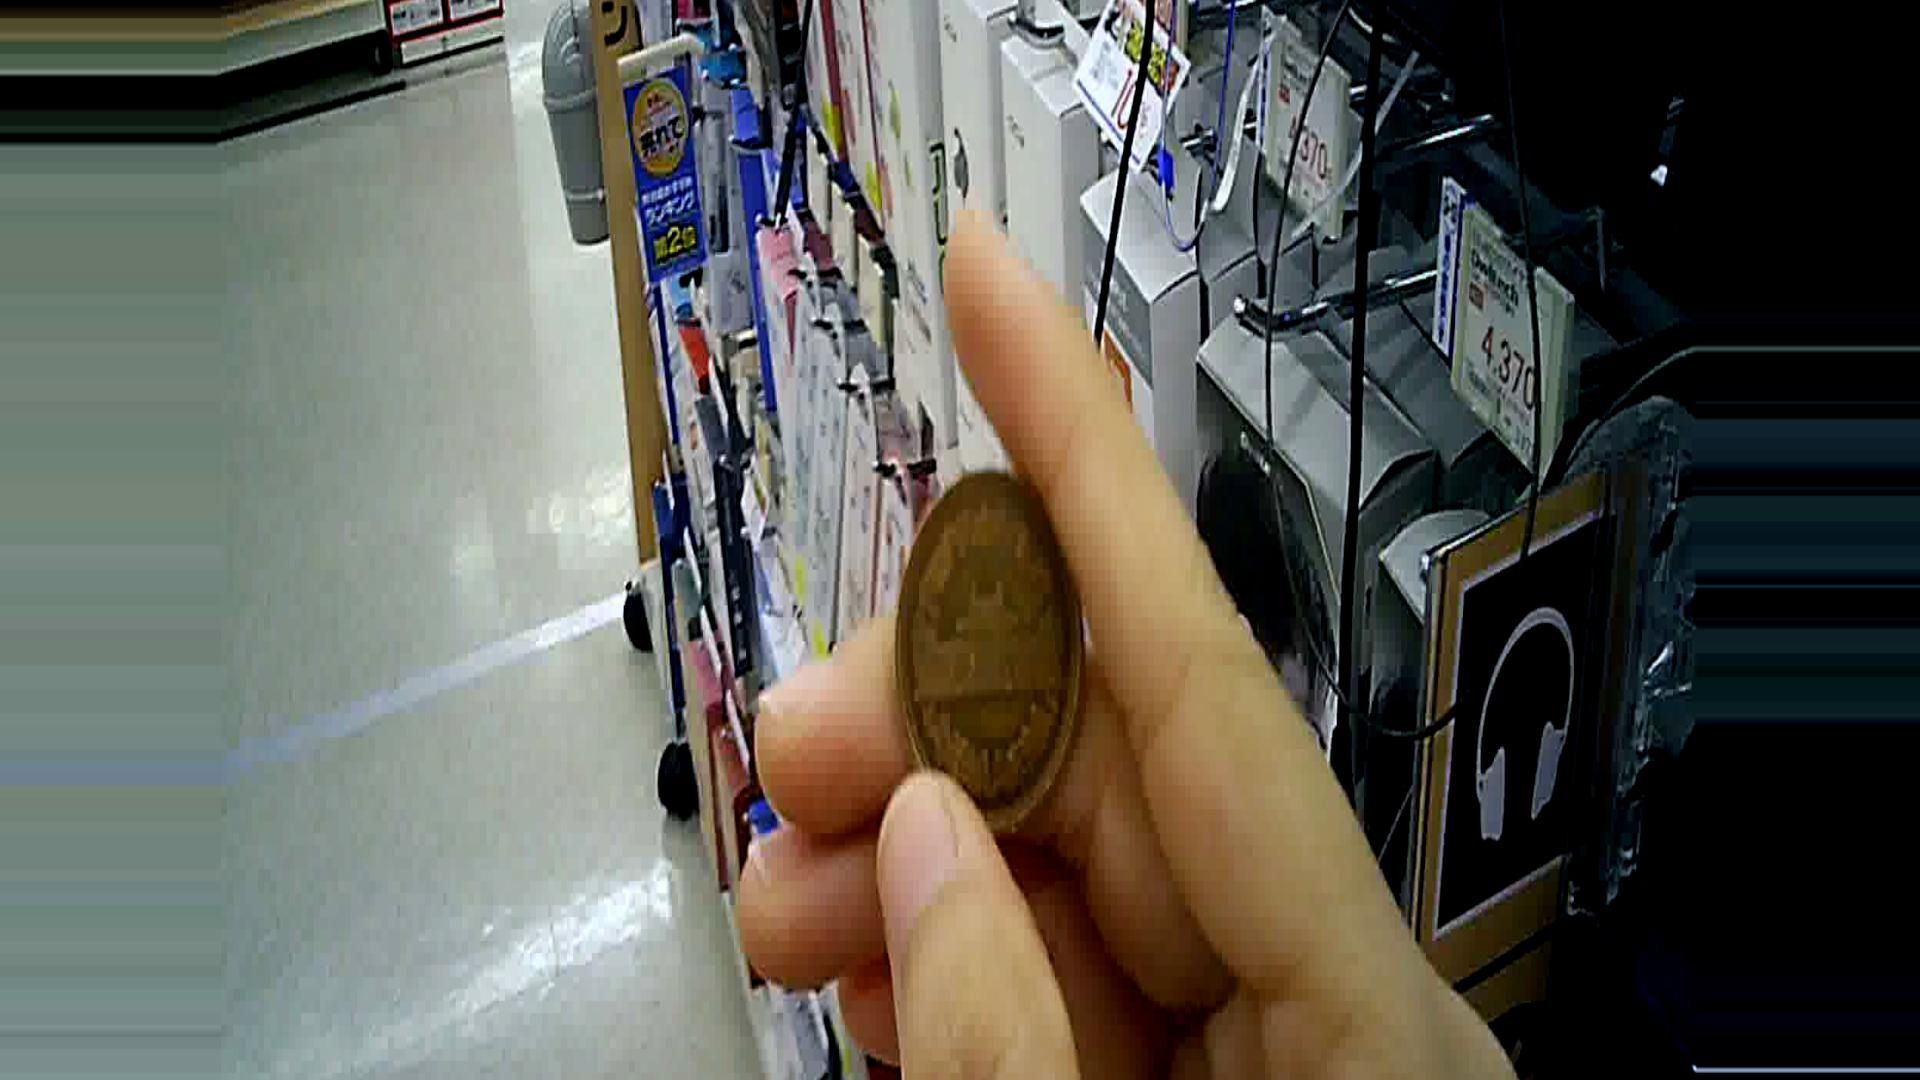10 Yen: (887, 462, 1093, 841)
